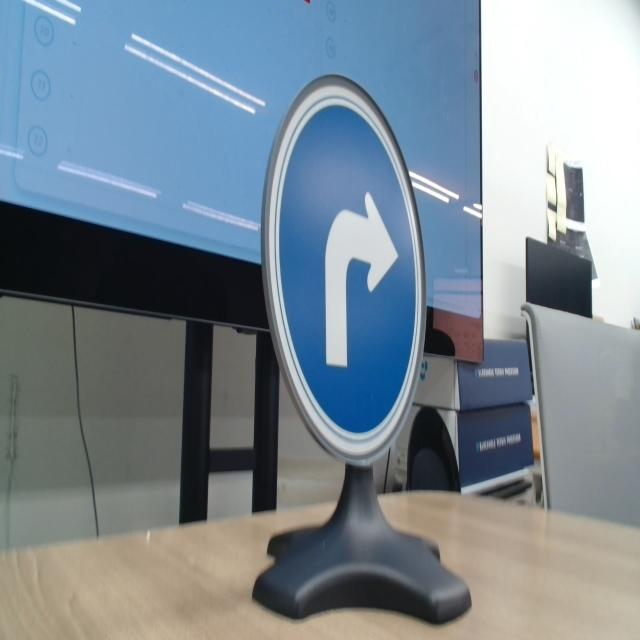right_dierection: (256, 62, 429, 461)
